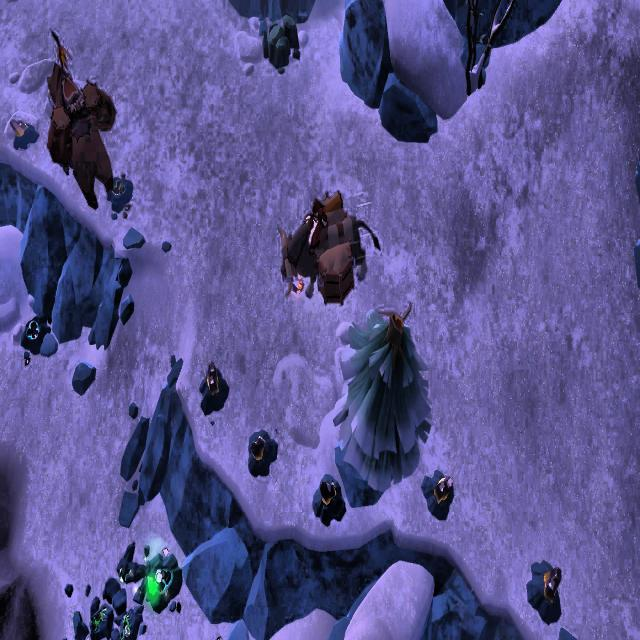rock_t3: (260, 9, 300, 70)
